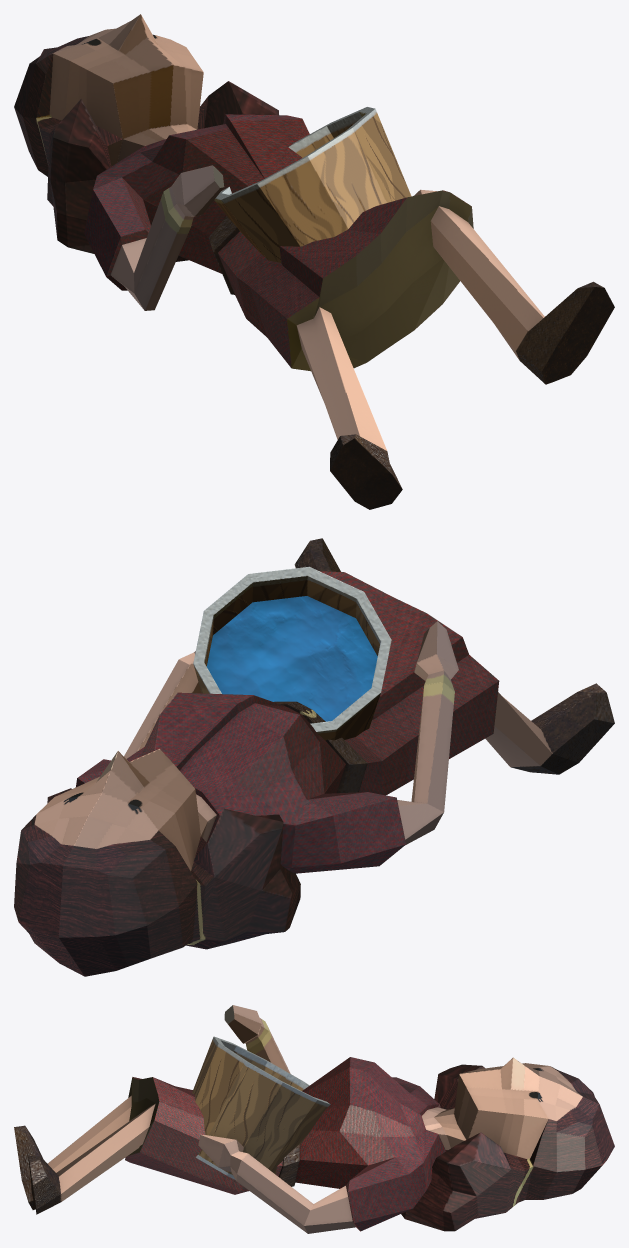
File: Walk_Aldeana_15.obj
The picture shows the model from 3 angles, top to bottom: view 1: azimuth 30°, elevation 25°; view 2: azimuth 150°, elevation 25°; view 3: azimuth 270°, elevation 25°; orthographic projection. The views are drawn at different scales.
Visible parts, largest first — view 1: Aldeana.001; view 2: Aldeana.001; view 3: Aldeana.001.
Boxes of the visible parts, x1,y1,x2,y2 form: Aldeana.001: (14, 14, 614, 509); Aldeana.001: (14, 538, 614, 976); Aldeana.001: (14, 1005, 614, 1233).
Bounding box in the file's own units: 1.05 × 0.8523 × 2.34.
